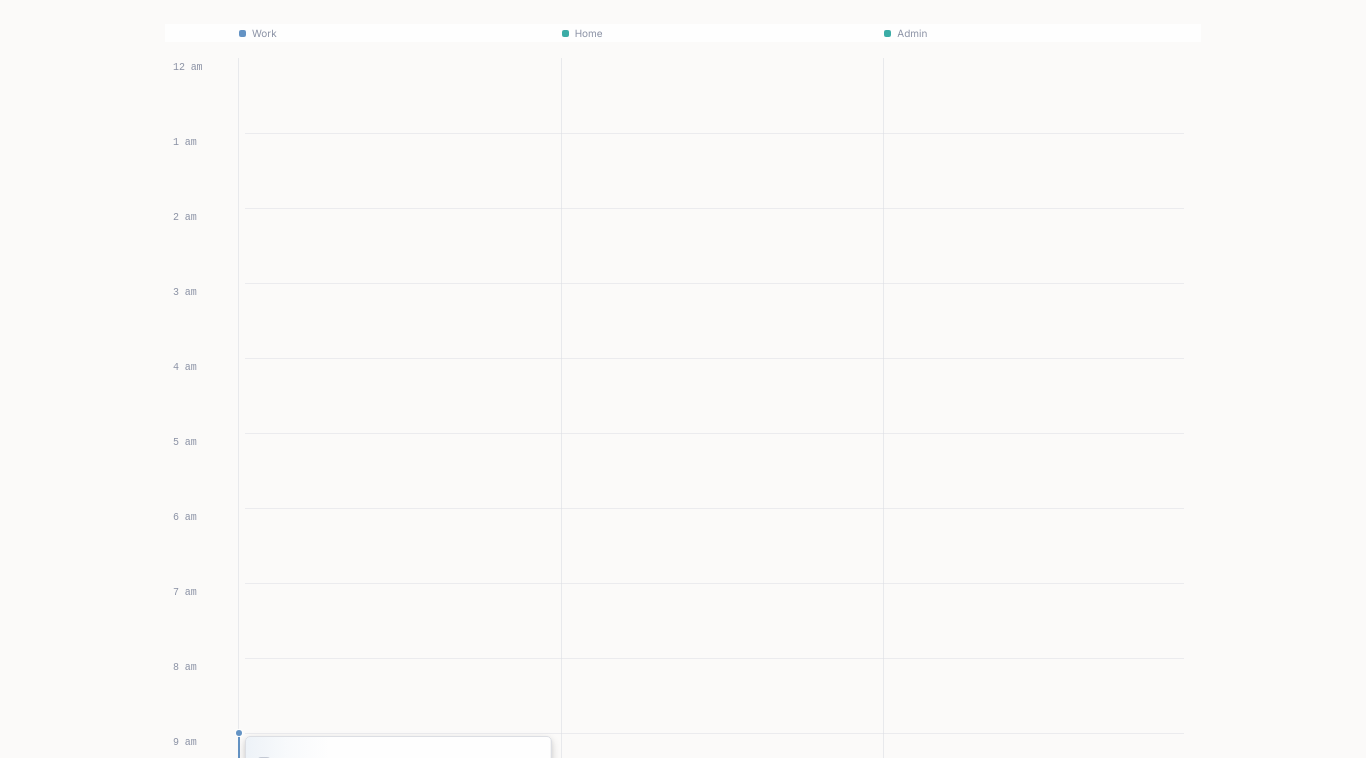
Scenario: focus recedes the other lanes › recedes every block outside the picked lane, and only those
This screenshot has width=1366, height=758.
Click the button "Work".
click(242, 33)  # box [233, 24, 556, 42]
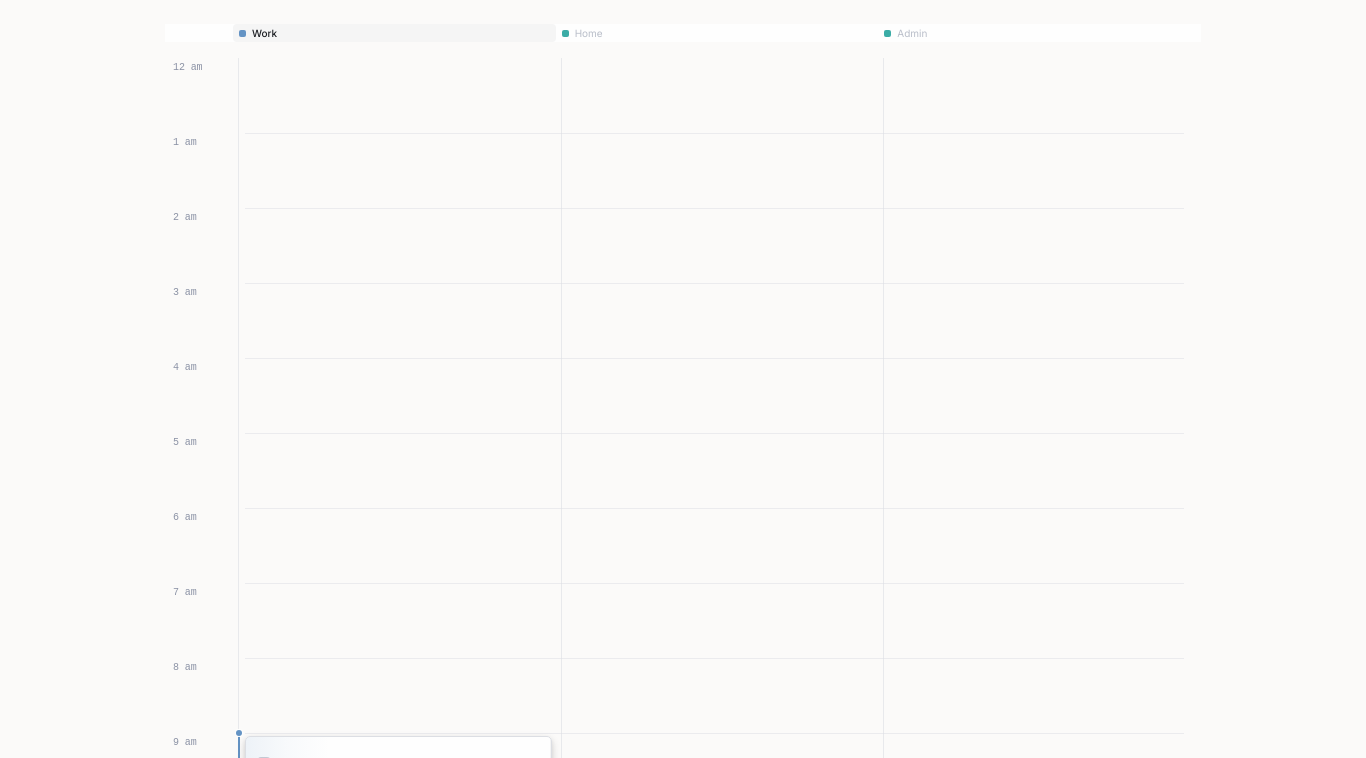
expect the button "Work" is pressed: met, box [233, 24, 556, 42]
